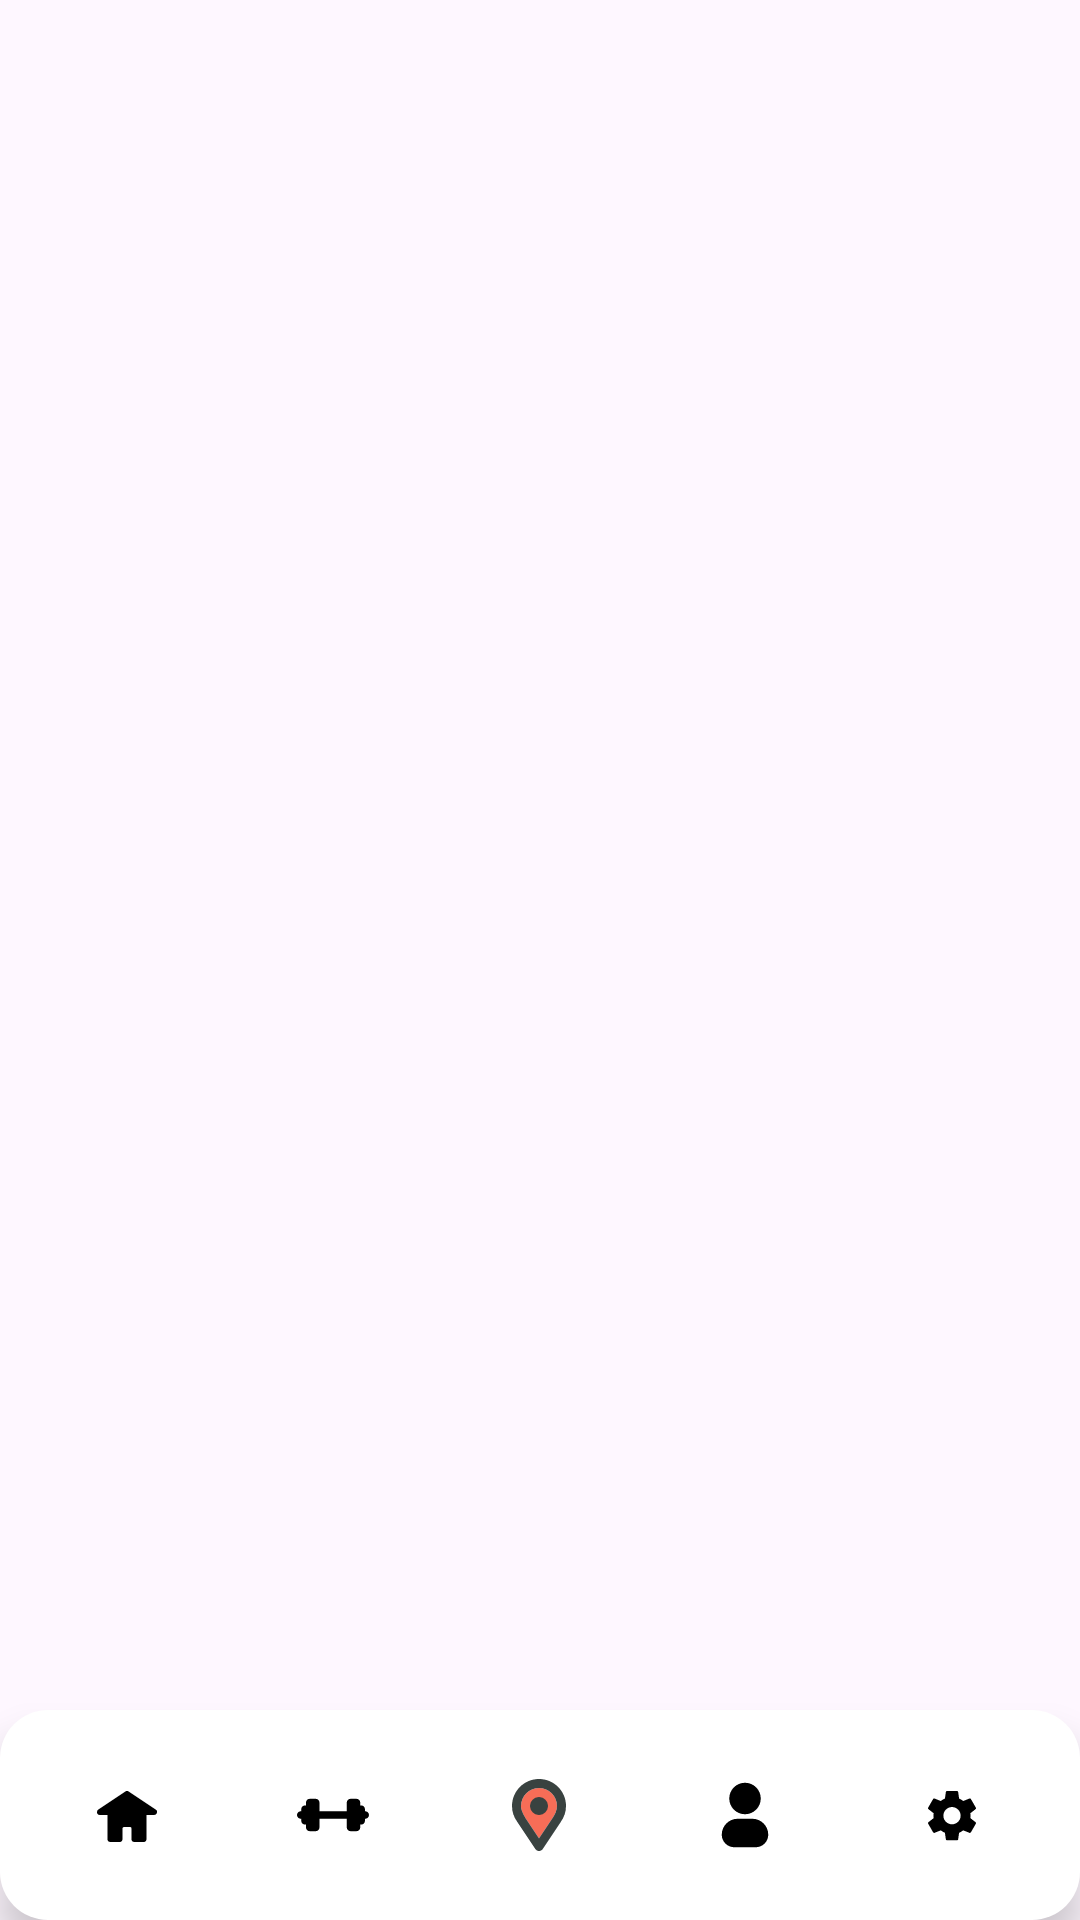

Screen size 1080px×1920px. Icon name, then its box in pixels as (x1, y1, x2, y2):
config: (928, 1791, 976, 1841)
home: (97, 1791, 157, 1842)
mapeamento: (512, 1779, 566, 1851)
perfil: (721, 1782, 769, 1848)
peso: (297, 1798, 369, 1832)
